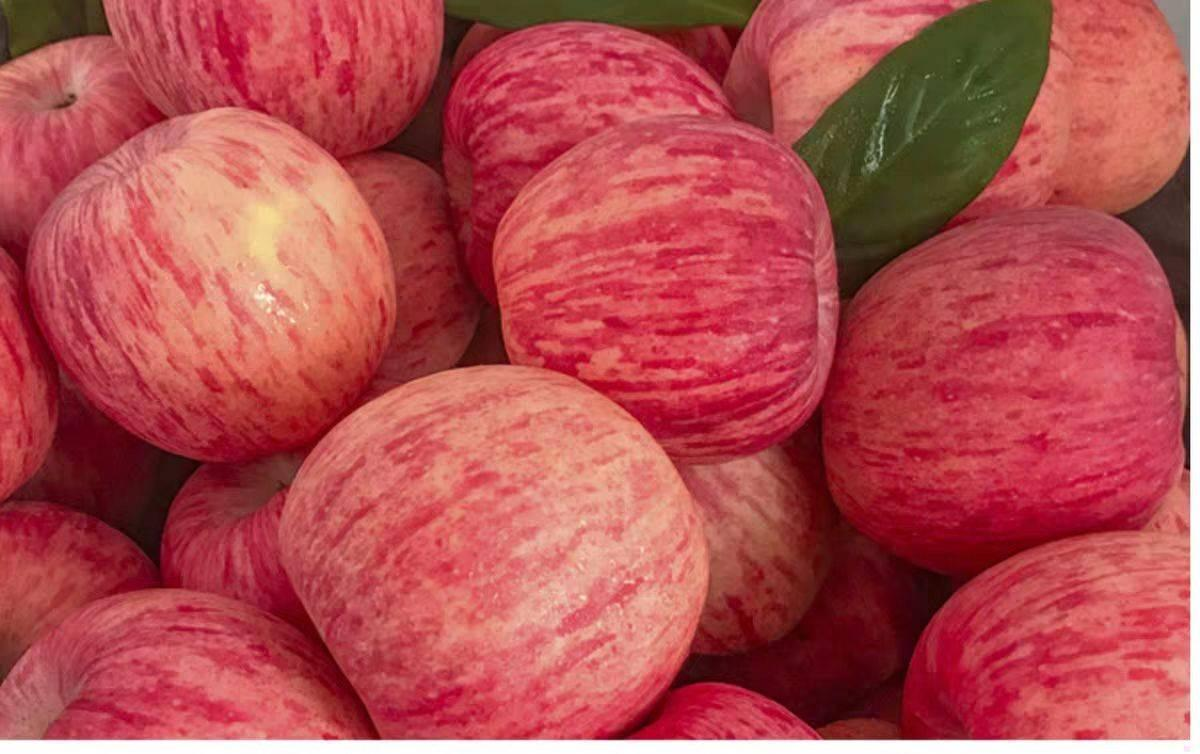apple: (276, 363, 705, 741), (812, 208, 1191, 560), (33, 105, 390, 461), (490, 113, 844, 464)
